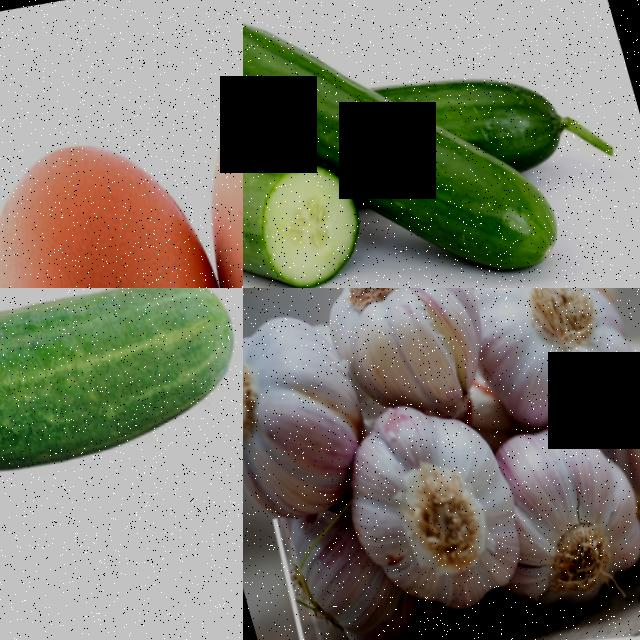cucumber: (0, 288, 243, 552), (347, 66, 566, 288), (243, 0, 373, 175), (243, 109, 344, 288), (454, 36, 574, 173)
egg_: (0, 95, 243, 288), (159, 17, 243, 288)
garlic: (323, 375, 534, 622), (491, 396, 640, 614), (450, 288, 640, 441), (243, 296, 359, 536), (304, 288, 497, 415)
